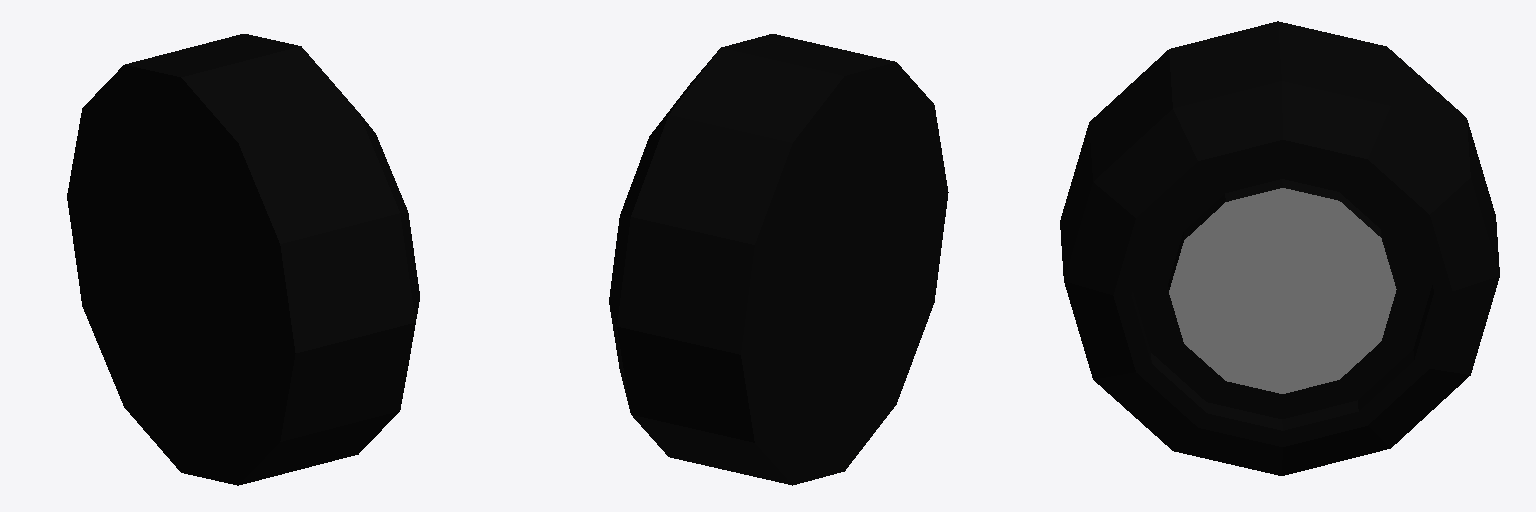
File: anteriore_destra.obj
3 renders of one model, left to right at view 1: azimuth 30°, elevation 25°; view 2: azimuth 150°, elevation 25°; view 3: azimuth 270°, elevation 25°, orthographic.
Parts seen in each view (by area): view 1: wheelfr_Cylinder.002; view 2: wheelfr_Cylinder.002; view 3: wheelfr_Cylinder.002.
Boxes of the visible parts, x1,y1,x2,y2 form: wheelfr_Cylinder.002: [67, 34, 419, 485]; wheelfr_Cylinder.002: [609, 34, 948, 485]; wheelfr_Cylinder.002: [1060, 21, 1499, 475].
Bounding box in the file's own units: 0.5094 × 1.19 × 1.2.